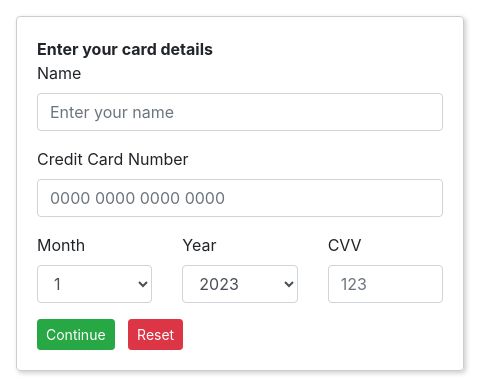
it: handles reset button click
Step 1. Type "1234567890123456" into the field with placeholder "0000 0000 0000 0000" → [240, 198], box left=37, top=179, right=443, bottom=217
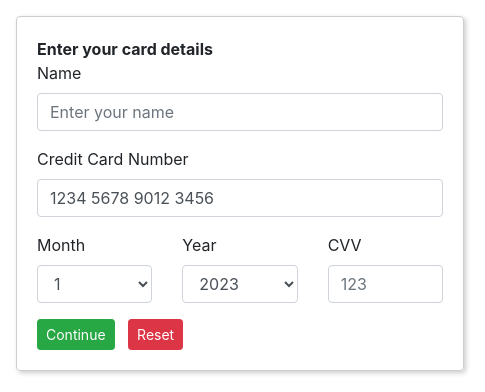
Step 2. Click the button "Reset" → [156, 334], box left=128, top=319, right=183, bottom=350
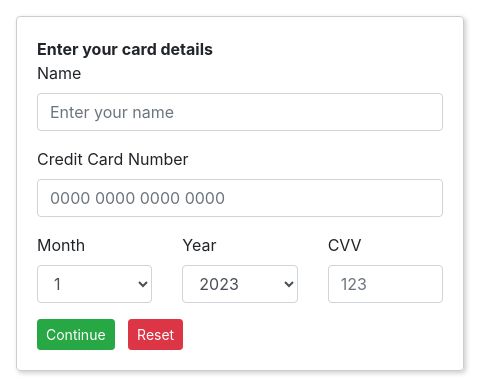
Now the field with placeholder "0000 0000 0000 0000" is empty, box left=37, top=179, right=443, bottom=217
